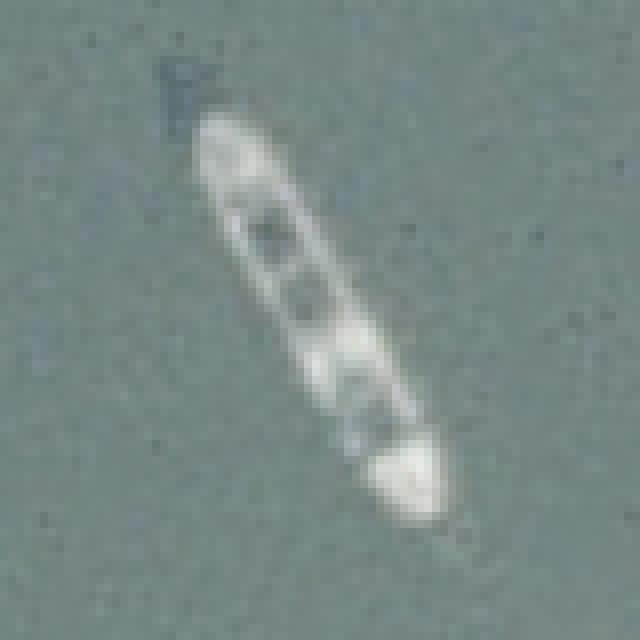ship: (135, 36, 524, 594)
